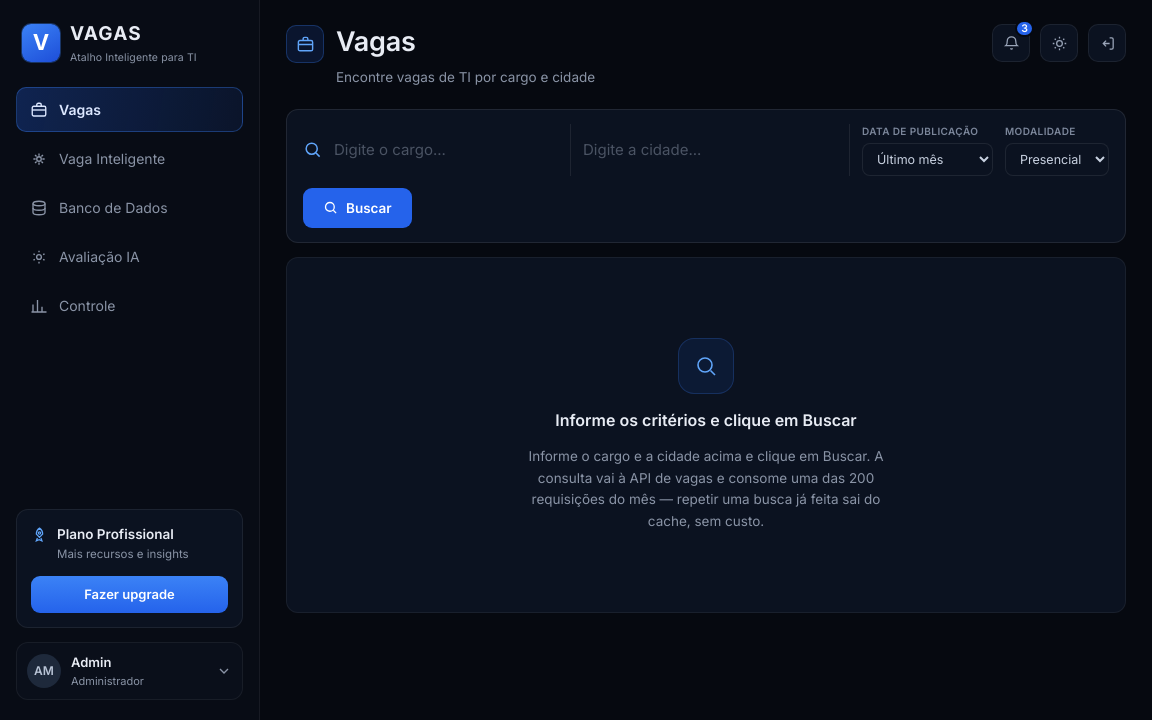
Test case: a cota é lida quando o painel é aberto, não uma vez por carregamento › abrir o Controle lê a cota do momento
Click the button "Controle" at (130, 306), box [16,283,243,328]
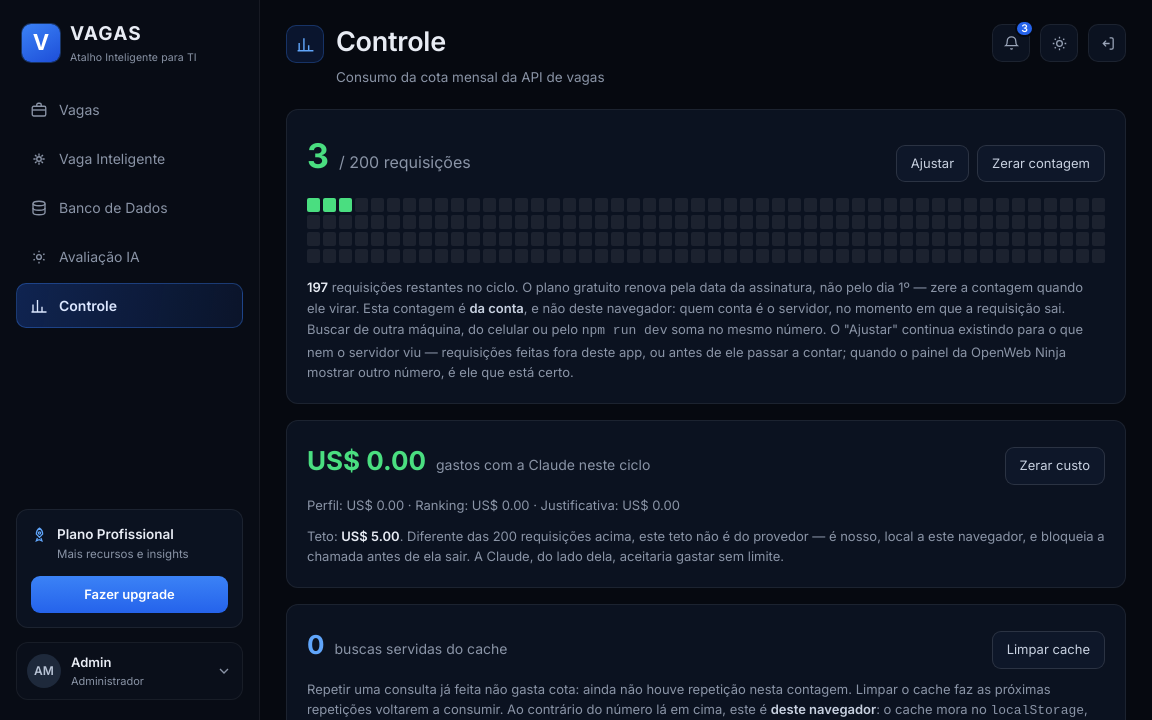
Expected: the text "/ 200 requisições" is shown, [339,150,471,174]
